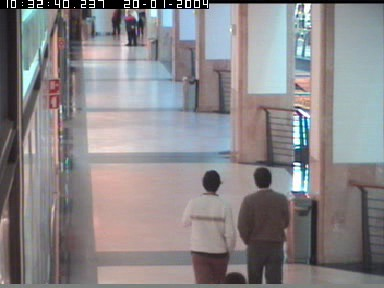person: (181, 170, 236, 284), (237, 166, 290, 284), (124, 10, 138, 46), (111, 10, 122, 38)
